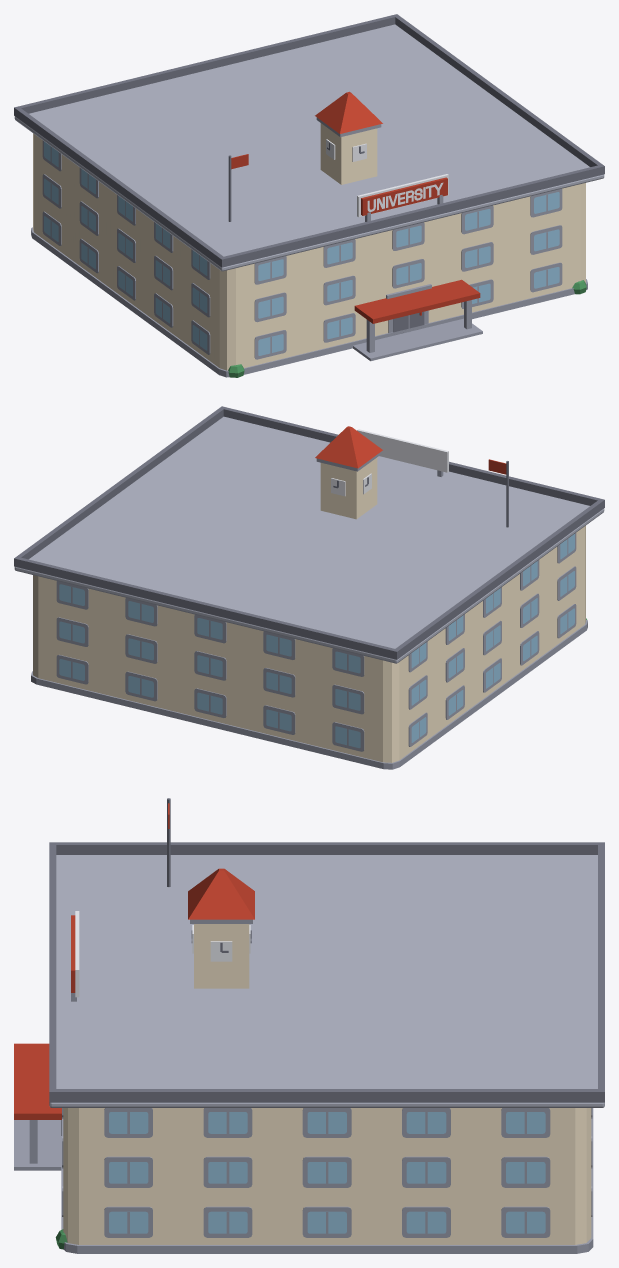
The model's file is university-3x3.glb.
3 renders of one model, top to bottom at view 1: azimuth 30°, elevation 25°; view 2: azimuth 150°, elevation 25°; view 3: azimuth 270°, elevation 25°, orthographic. The views are drawn at different scales.
Visible parts, largest first — view 1: university-3x3; view 2: university-3x3; view 3: university-3x3.
Part boxes in pixels (left/top/right/bottom): university-3x3: left=14, top=14, right=604, bottom=377; university-3x3: left=14, top=406, right=604, bottom=769; university-3x3: left=14, top=798, right=604, bottom=1253.
Size of the model in its own units: 3 by 1.48 by 3.
1 material, 1 textured.
